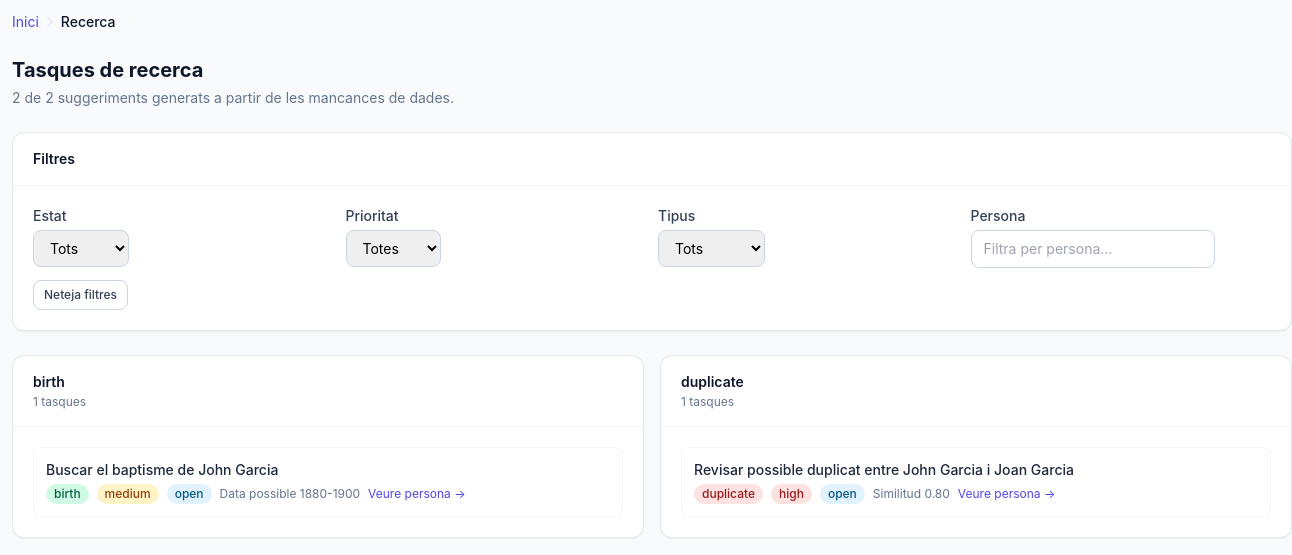
Test: ResearchPage › filtra per prioritat
Check: the heading "Tasques de recerca" is shown, box [12,58,203,82]
Select "Alta" in the dropdown labelled "Prioritat": (393, 248) [346,230,440,267]
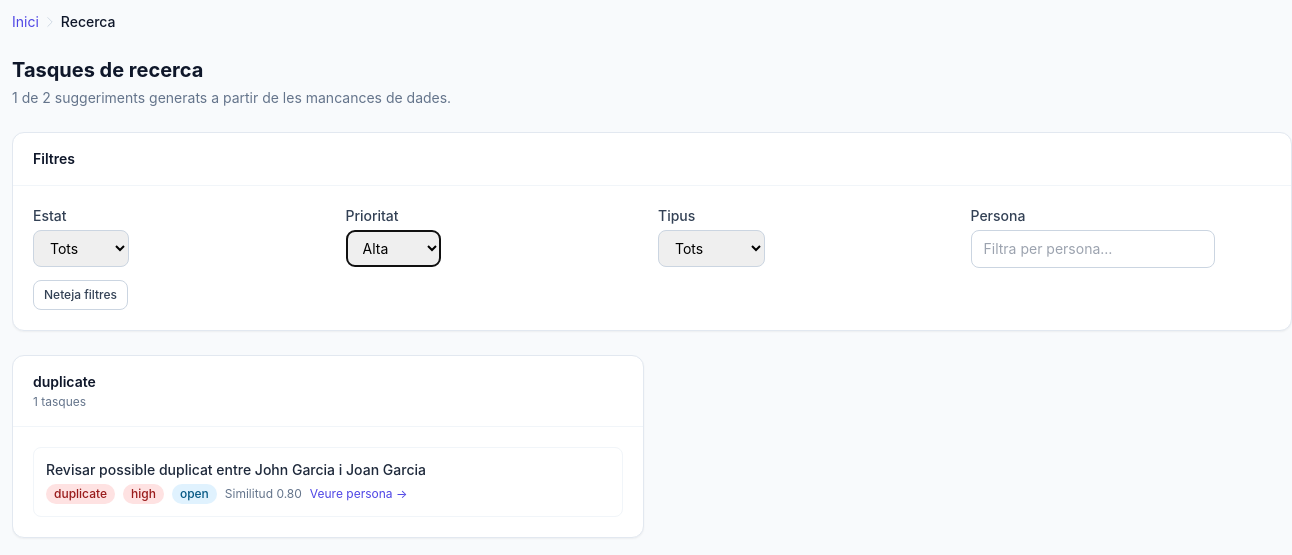
Check: the text "Revisar possible duplicat entre John Garcia i Joan Garcia" is shown, box [46,461,426,478]
Check: the text "Buscar el baptisme de John Garcia" is gone
